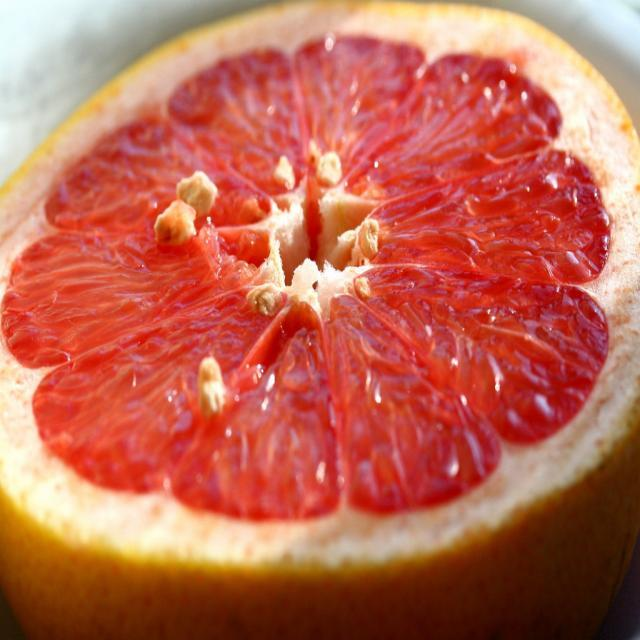Orange: (42, 34, 640, 612)
